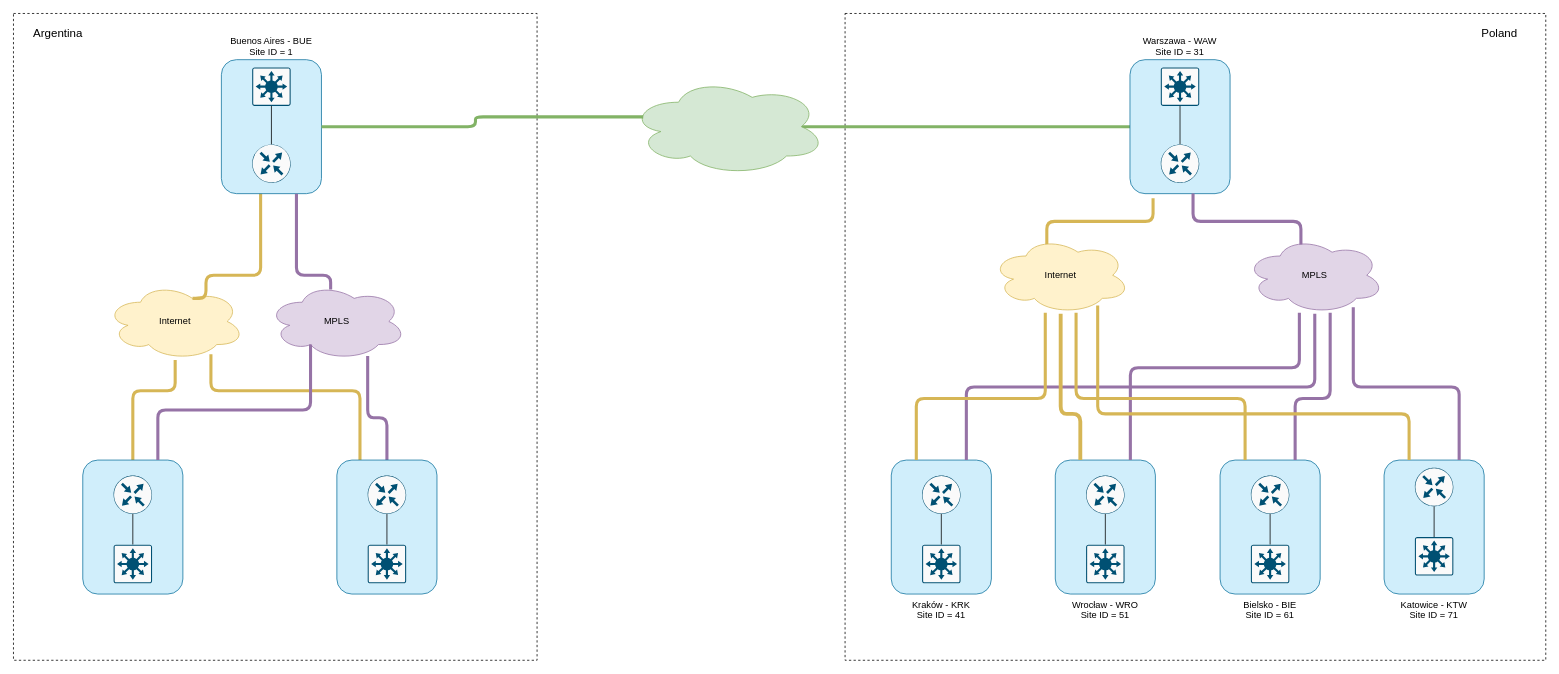
The diagram is 1559 pixels wide and 674 high, and some of its shapes have lost their labels. Here are the shapes that lost their labels. From the top down, the box of each, then its label:
(629, 77, 826, 176): Metro Ethernet
(82, 459, 183, 594): Cordoba - COR Site ID = 11
(336, 459, 437, 594): Mendoza - MDZ Site ID = 21
